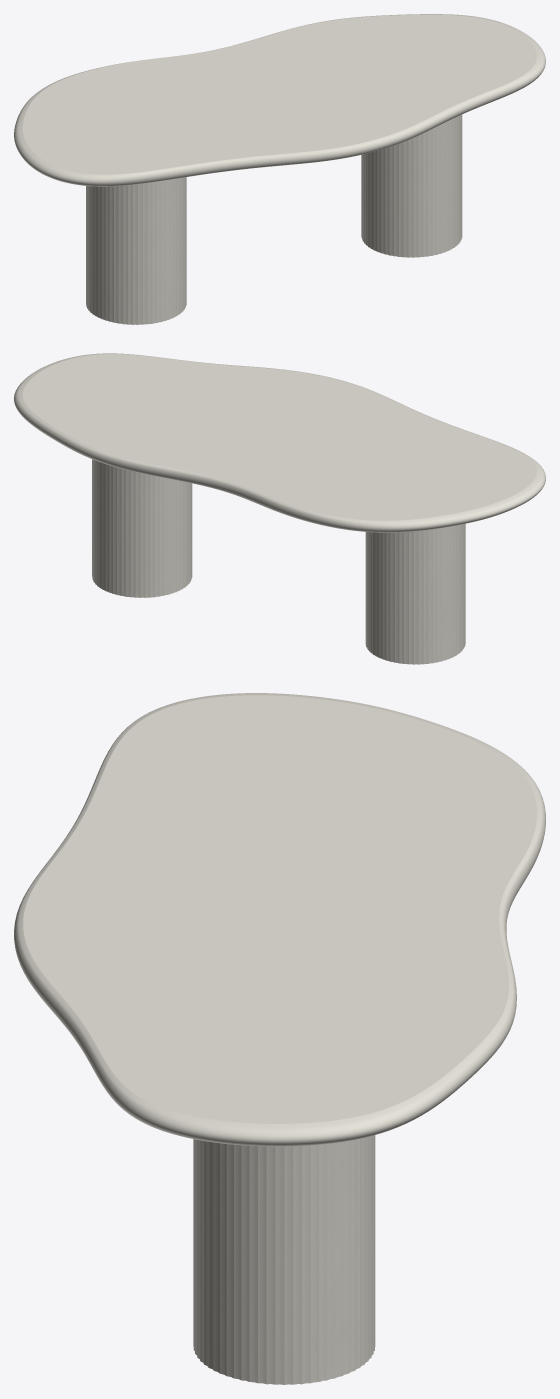
The model's file is pale_toplast_round_ripplesecond.glb.
3 renders of one model, top to bottom at view 1: azimuth 30°, elevation 25°; view 2: azimuth 150°, elevation 25°; view 3: azimuth 270°, elevation 25°, orthographic. The views are drawn at different scales.
Parts seen in each view (by area): view 1: round_toplast, ripplesecond; view 2: round_toplast, ripplesecond; view 3: round_toplast, ripplesecond.
Boxes of the visible parts, x1,y1,x2,y2 form: round_toplast: (14,14,545,186); ripplesecond: (86,114,462,324); round_toplast: (14,353,545,532); ripplesecond: (92,459,465,664); round_toplast: (14,693,545,1146); ripplesecond: (193,1135,375,1384).
Size of the model in its own units: 7.5 by 2.5 by 3.8.
1 material, 1 textured.
